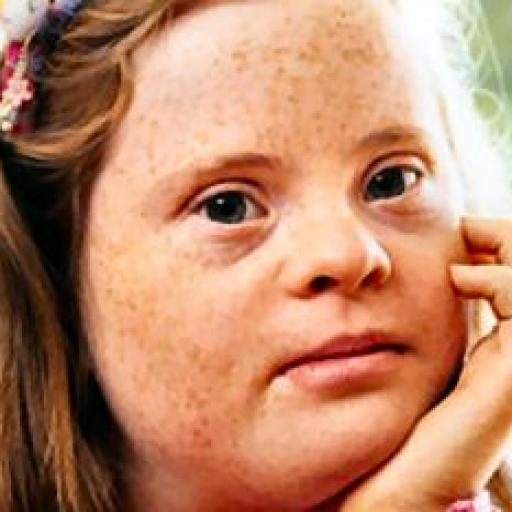Autism: (11, 9, 512, 479)
